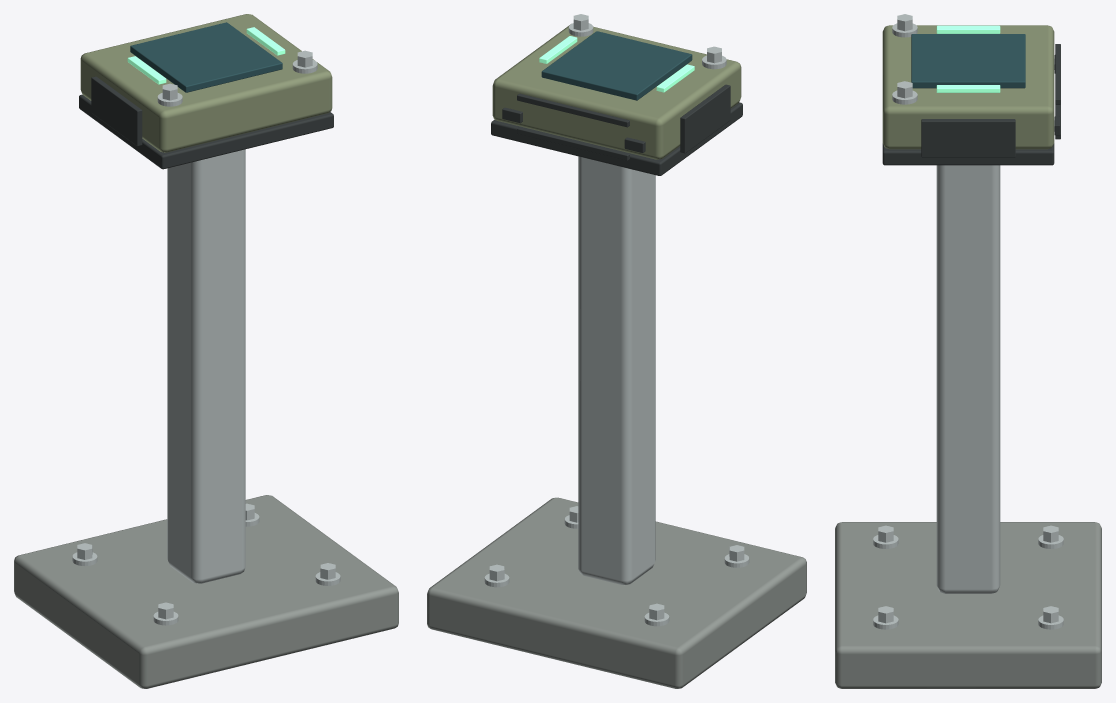
The model's file is mountain-border-checkpoint-mountain-border-checkpoint--3c903dc8__30306.glb.
The picture shows the model from 3 angles, left to right: view 1: azimuth 30°, elevation 25°; view 2: azimuth 150°, elevation 25°; view 3: azimuth 270°, elevation 25°; orthographic projection. The views are drawn at different scales.
Parts seen in each view (by area): view 1: mountain-border-checkpoint-fingerprint-pad-pedestal; view 2: mountain-border-checkpoint-fingerprint-pad-pedestal; view 3: mountain-border-checkpoint-fingerprint-pad-pedestal.
Boxes of the visible parts, x1,y1,x2,y2 form: mountain-border-checkpoint-fingerprint-pad-pedestal: (14,14,398,688); mountain-border-checkpoint-fingerprint-pad-pedestal: (427,14,806,688); mountain-border-checkpoint-fingerprint-pad-pedestal: (835,14,1101,688).
Bounding box in the file's own units: 0.48 × 1 × 0.42.
